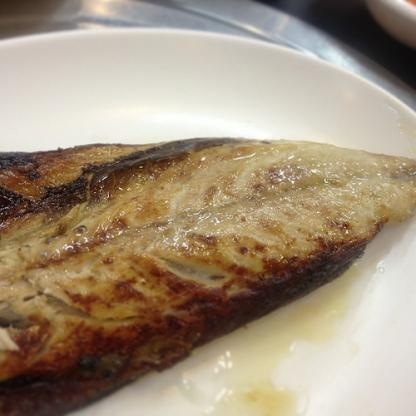Peixe: (0, 125, 416, 416)
